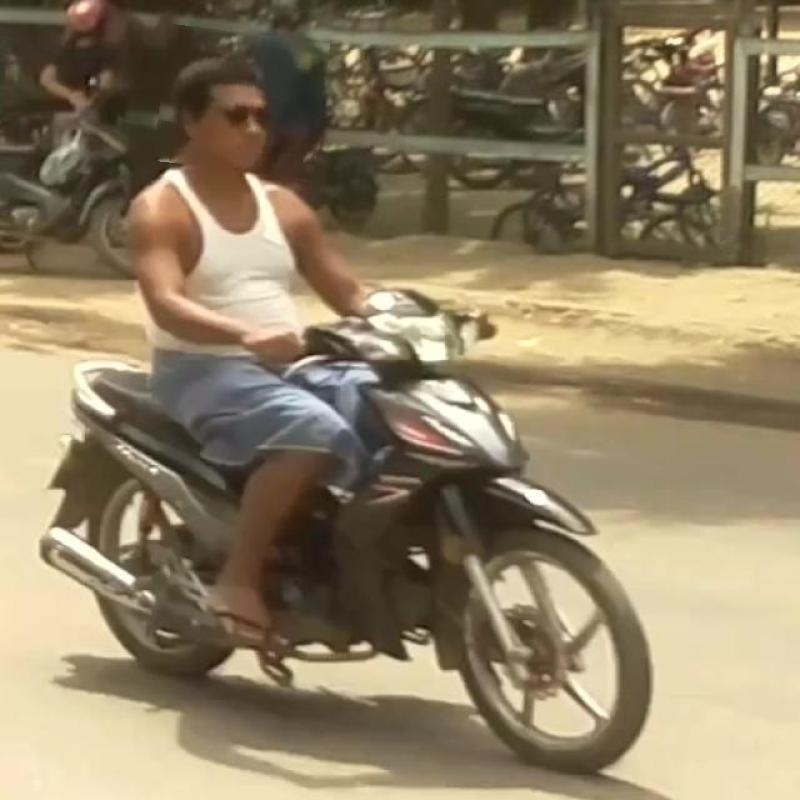nohelmet: (157, 29, 327, 176)
